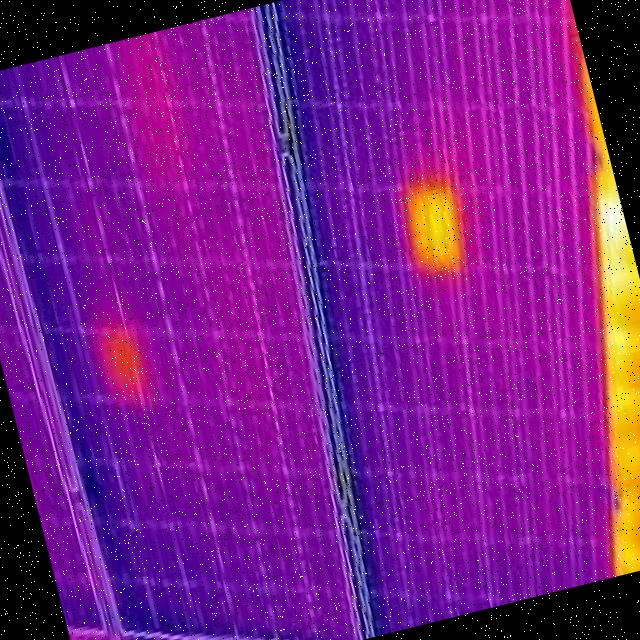Hotspot: (377, 153, 492, 308), (74, 306, 168, 437)
